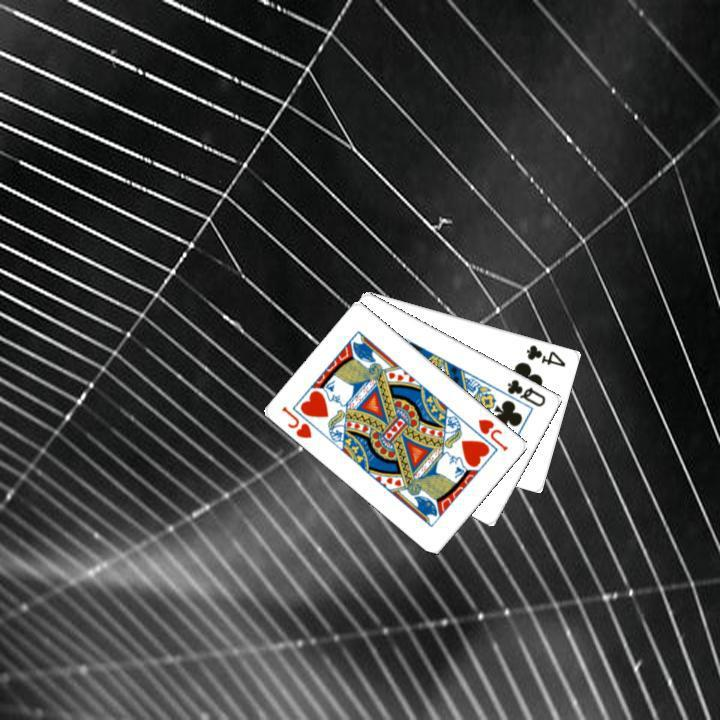4: (522, 340, 568, 368)
J: (474, 414, 510, 453), (278, 402, 314, 440)
Q: (503, 375, 548, 409)
